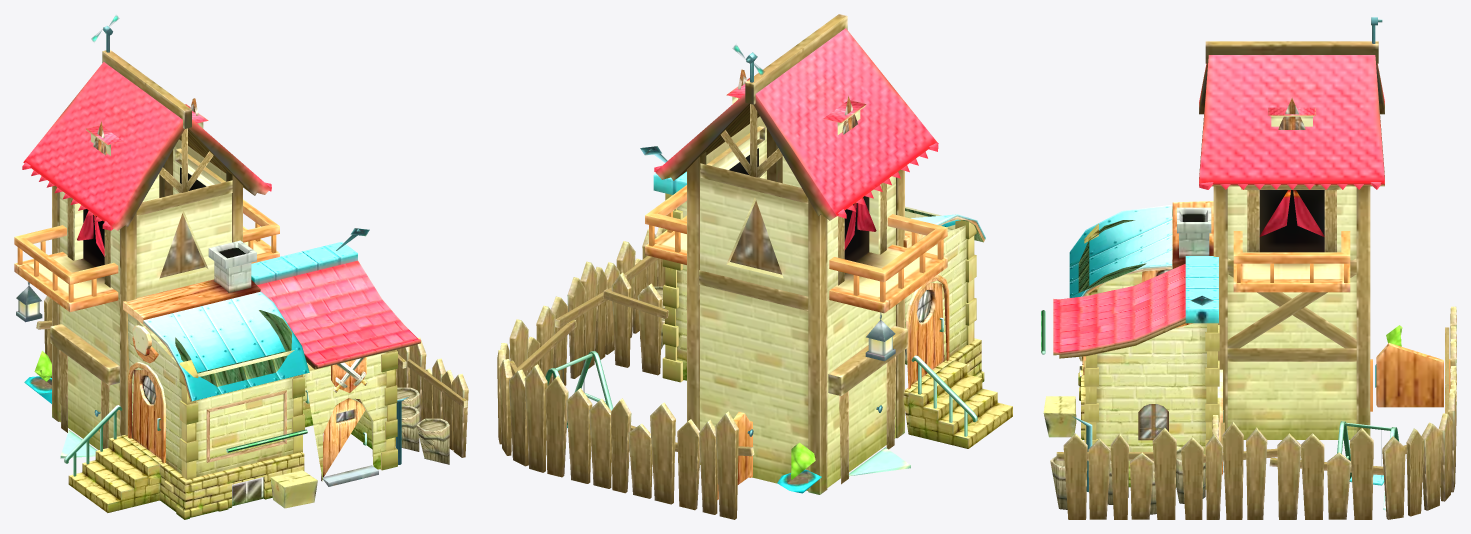
The model's file is BLD_HouseC_lod.glb.
The picture shows the model from 3 angles, left to right: view 1: azimuth 30°, elevation 25°; view 2: azimuth 150°, elevation 25°; view 3: azimuth 270°, elevation 25°; orthographic projection. The views are drawn at different scales.
Visible parts, largest first — view 1: miniHouse_Part1_House Part 01_0, miniHouse_Part2_House Part 02_0, miniHouse_Part3_miniHouse_Part3_0; view 2: miniHouse_Part1_House Part 01_0, miniHouse_Part3_miniHouse_Part3_0, miniHouse_Part2_House Part 02_0; view 3: miniHouse_Part1_House Part 01_0, miniHouse_Part3_miniHouse_Part3_0, miniHouse_Part2_House Part 02_0.
Boxes of the visible parts, <box> form: miniHouse_Part1_House Part 01_0: <box>14,26,279,458</box>; miniHouse_Part2_House Part 02_0: <box>64,240,397,519</box>; miniHouse_Part3_miniHouse_Part3_0: <box>36,228,468,486</box>; miniHouse_Part1_House Part 01_0: <box>645,14,947,499</box>; miniHouse_Part3_miniHouse_Part3_0: <box>497,146,754,519</box>; miniHouse_Part2_House Part 02_0: <box>545,193,1012,448</box>; miniHouse_Part1_House Part 01_0: <box>1199,17,1450,439</box>; miniHouse_Part3_miniHouse_Part3_0: <box>1050,256,1456,519</box>; miniHouse_Part2_House Part 02_0: <box>1041,201,1399,510</box>.
Bounding box in the file's own units: 398 × 439 × 408.
4 materials, 4 textured.
